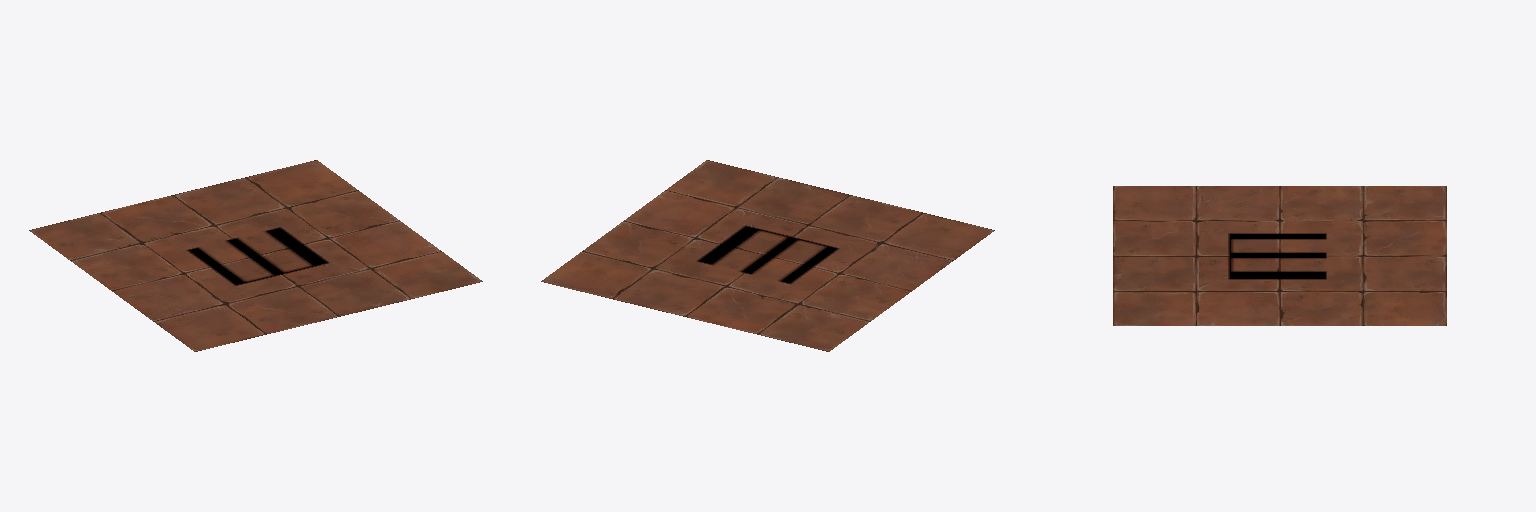
3 views of the same model, side by side, from view 1: azimuth 30°, elevation 25°; view 2: azimuth 150°, elevation 25°; view 3: azimuth 270°, elevation 25° (orthographic).
Visible parts, largest first — view 1: pPlane1; view 2: pPlane1; view 3: pPlane1.
Part boxes in pixels (left/top/right/bottom): pPlane1: left=29, top=160, right=482, bottom=351; pPlane1: left=541, top=160, right=994, bottom=351; pPlane1: left=1113, top=186, right=1446, bottom=325.
Size of the model in its own units: 8 by 0 by 8.
Materials: 1 (1 with a texture image).